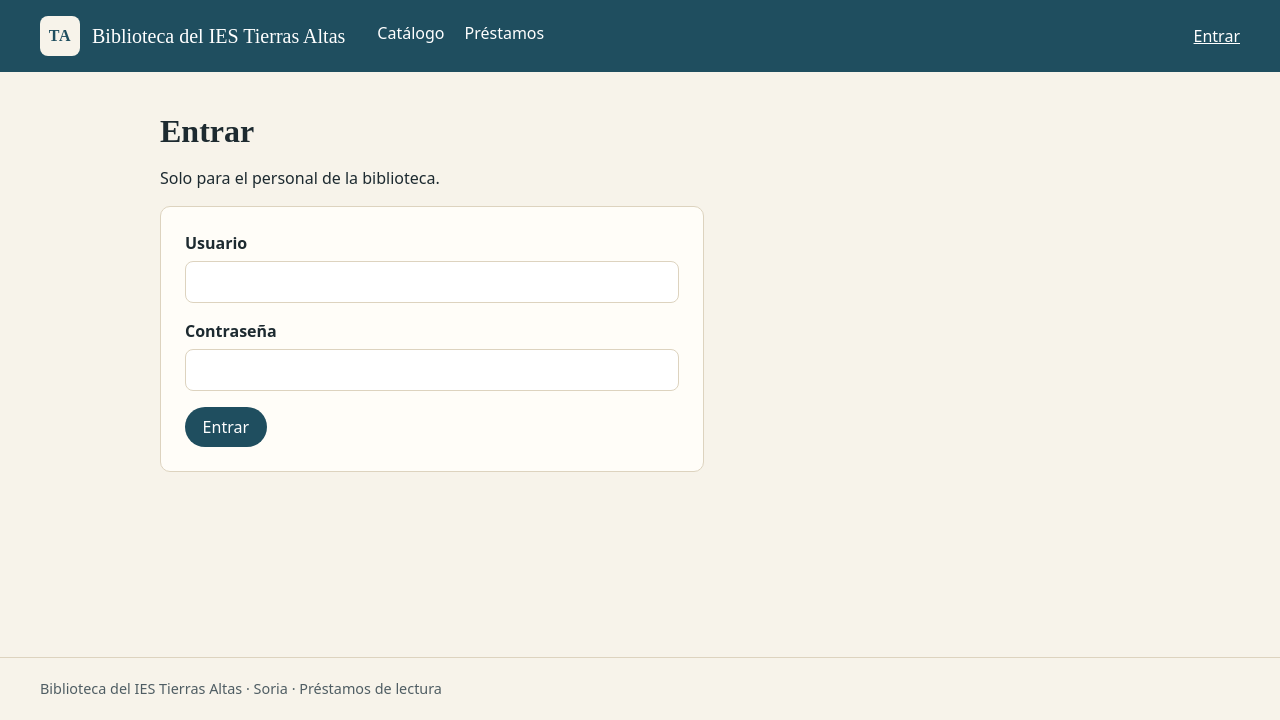
Test case: La sesión › vuelve a la dirección exacta que se pidió
Type "marta" into the field labelled "Usuario".
click(432, 282); type("marta")  # box [185,261,679,303]
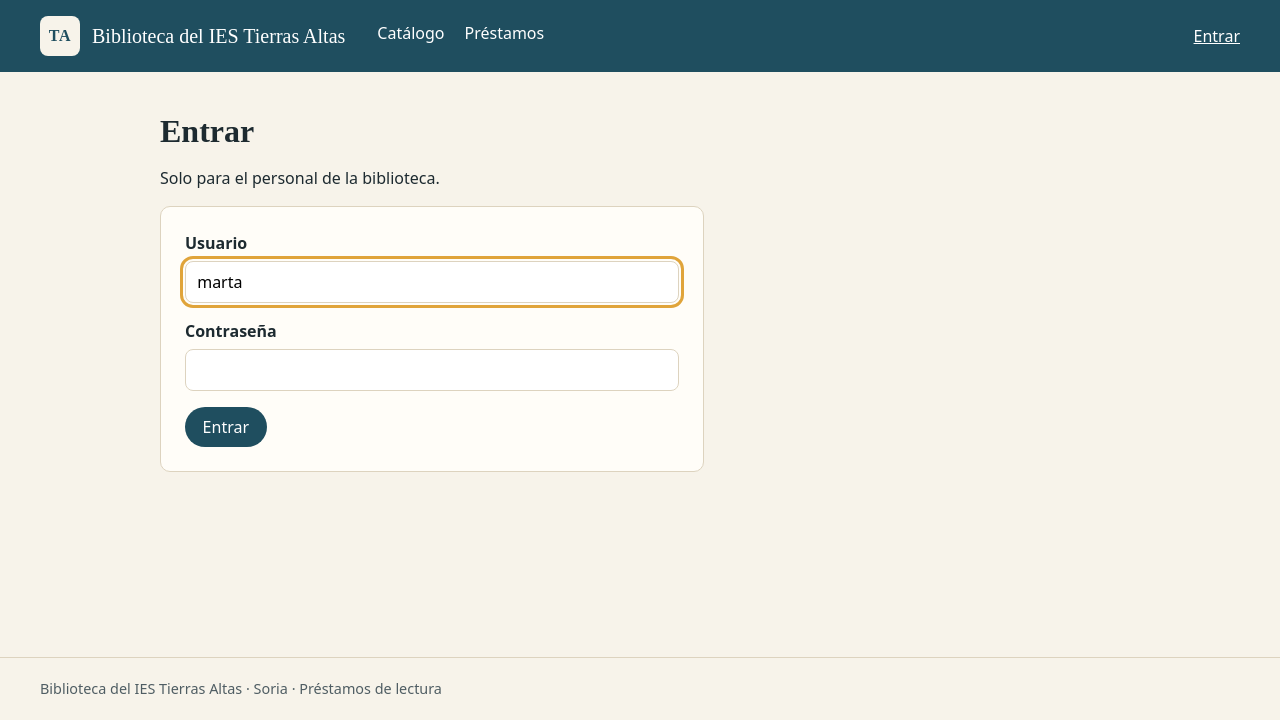
Type "tierrasaltas" into the password field labelled "Contraseña".
click(432, 370); type("tierrasaltas")  # box [185,349,679,391]
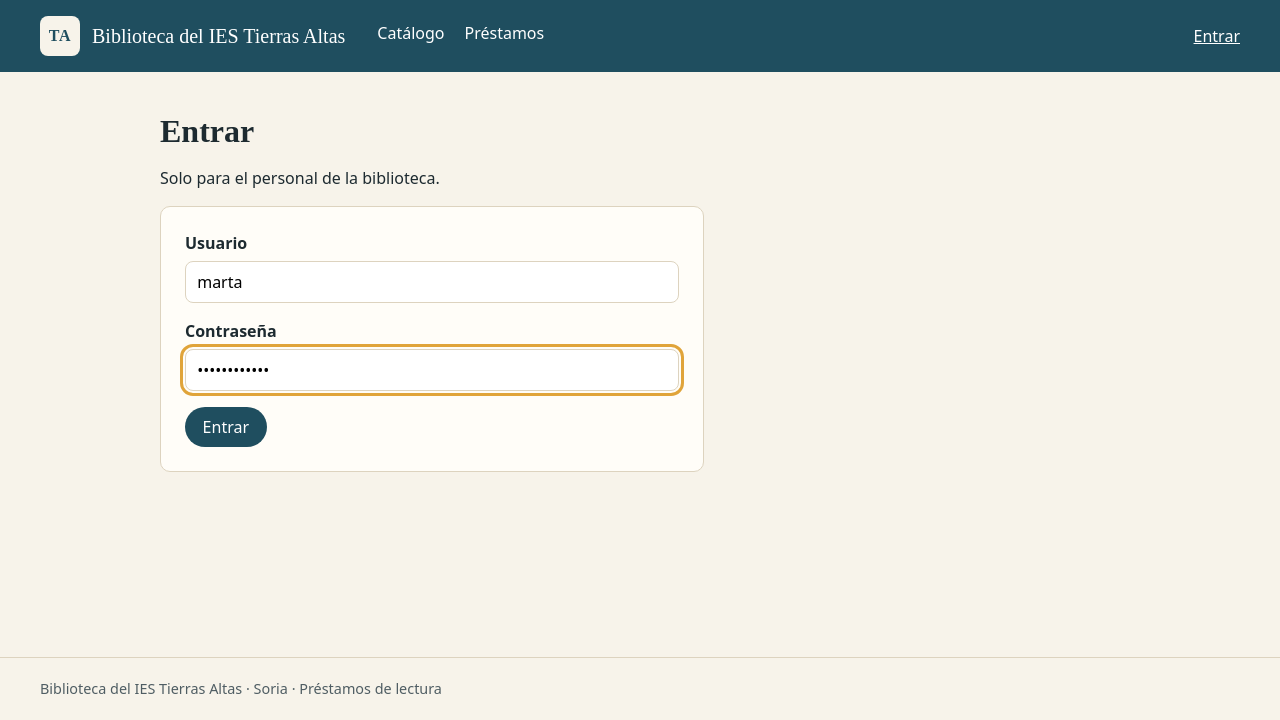
Click the button "Entrar".
click(226, 427)  # box [185,407,267,447]
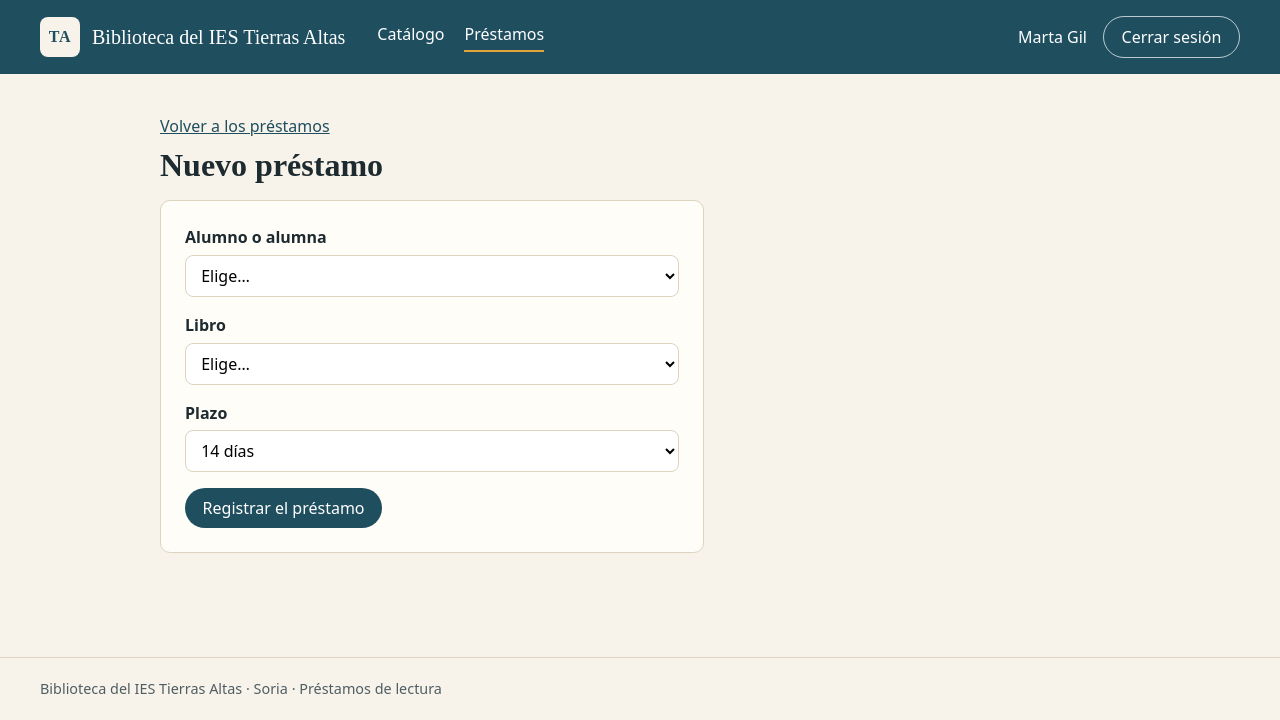
Expected: the heading "Nuevo préstamo" is shown, [160,147,383,183]
